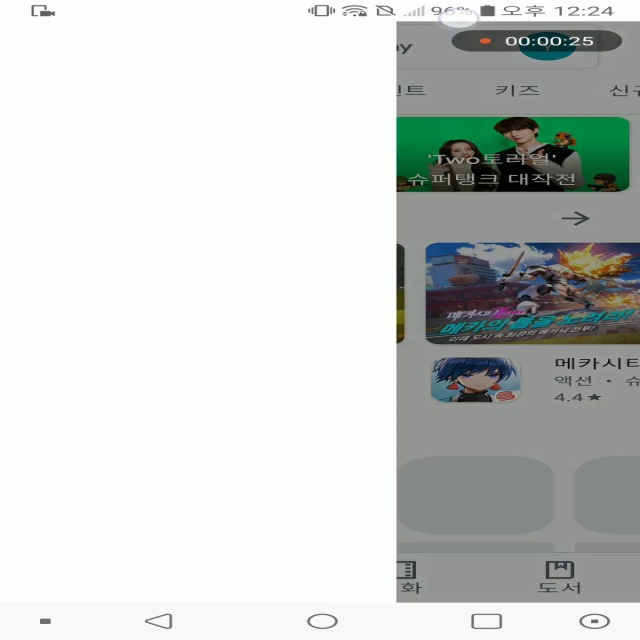Cursor: (437, 8, 481, 31)
